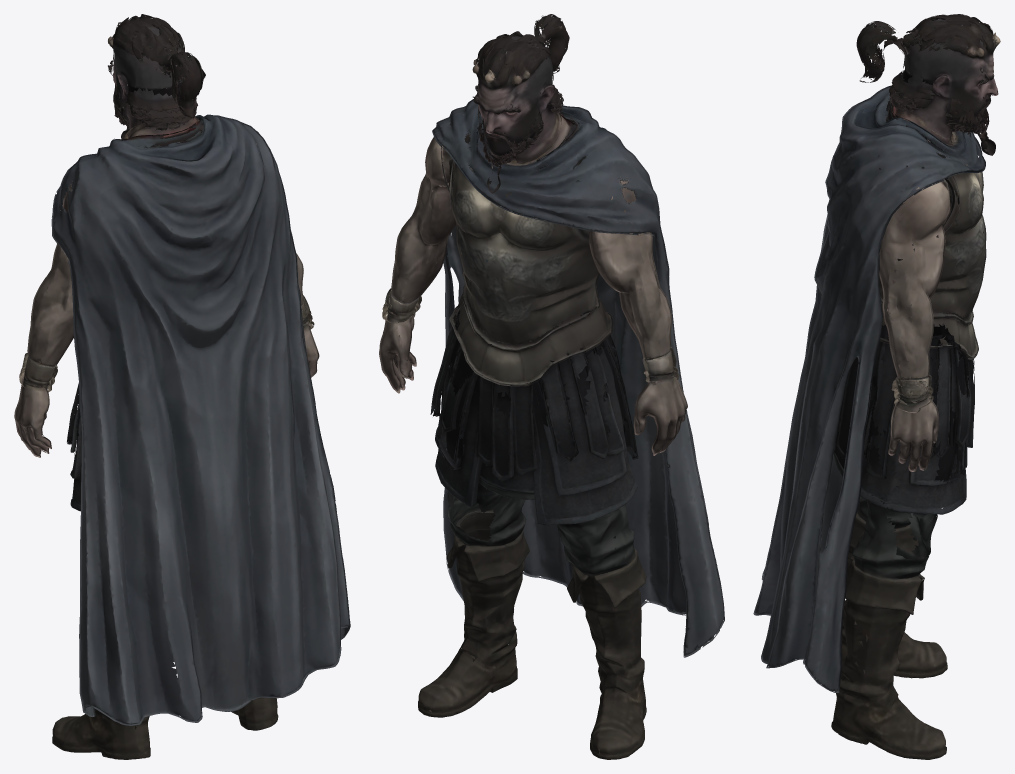
File: AEDAN-CLEANED-V1.glb
The picture shows the model from 3 angles, left to right: view 1: azimuth 30°, elevation 25°; view 2: azimuth 150°, elevation 25°; view 3: azimuth 270°, elevation 25°; orthographic projection.
Parts seen in each view (by area): view 1: Aedan; view 2: Aedan; view 3: Aedan.
Boxes of the visible parts, bbox=[...] form: Aedan: bbox=[14, 14, 350, 759]; Aedan: bbox=[379, 14, 724, 759]; Aedan: bbox=[753, 14, 1000, 759].
Bounding box in the file's own units: 0.3894 × 0.8687 × 0.2811.
1 material, 1 textured.
